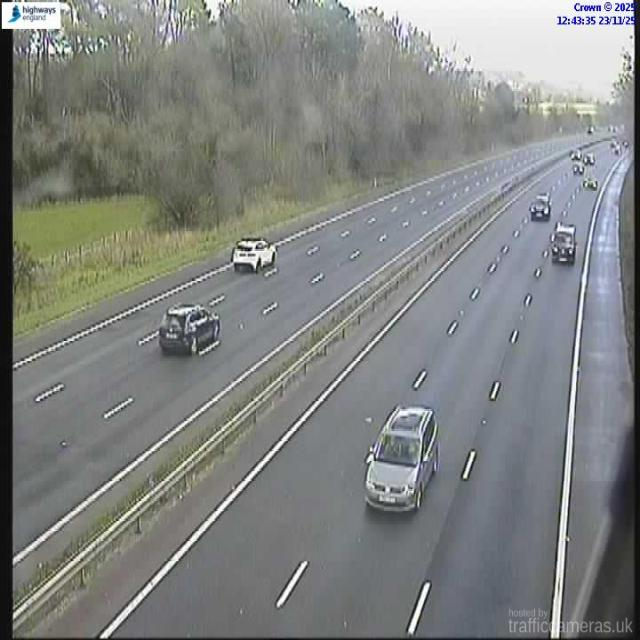foliage: (13, 0, 581, 227)
